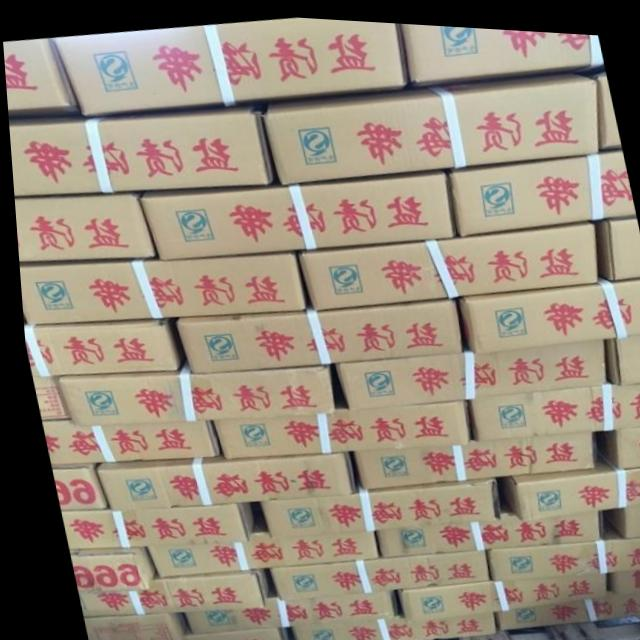box: (258, 62, 600, 183), (53, 15, 404, 116), (136, 167, 454, 256), (296, 215, 592, 304), (7, 101, 276, 196), (168, 291, 457, 371), (15, 248, 304, 323), (327, 330, 602, 408), (51, 358, 330, 422), (445, 139, 634, 233), (205, 395, 468, 453), (89, 446, 347, 505), (344, 424, 588, 486), (455, 268, 640, 348), (135, 518, 370, 580), (253, 475, 491, 535), (399, 19, 604, 82), (364, 504, 592, 552), (263, 547, 479, 596), (12, 192, 154, 264), (462, 375, 640, 432), (496, 444, 640, 514), (477, 516, 640, 576), (175, 588, 392, 633), (19, 314, 179, 375), (54, 499, 250, 548), (70, 569, 262, 618), (388, 568, 599, 612), (38, 414, 212, 462), (278, 605, 484, 640), (483, 584, 640, 626), (3, 39, 81, 120), (568, 61, 620, 143), (62, 544, 144, 590), (589, 210, 640, 271), (76, 610, 177, 640), (45, 462, 100, 508), (594, 327, 640, 379), (586, 417, 640, 460), (592, 495, 640, 531), (168, 625, 275, 640), (29, 375, 59, 421), (596, 562, 640, 581)
